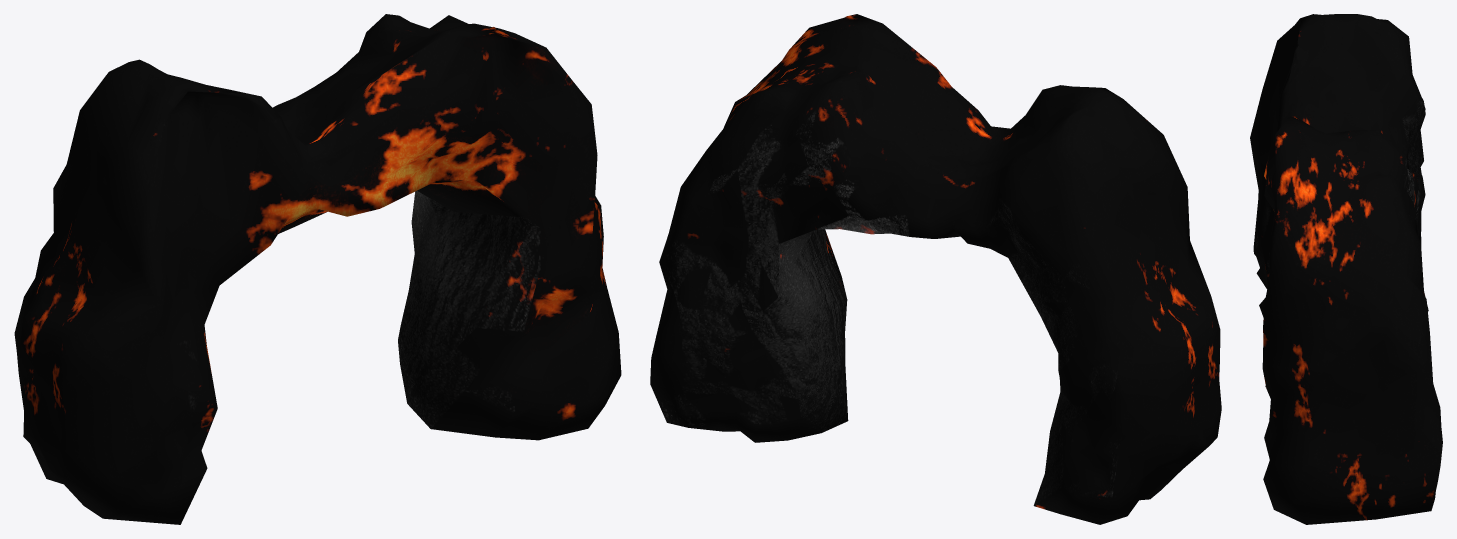
The model's file is monumentlava7.fbx.
3 views of the same model, side by side, from view 1: azimuth 30°, elevation 25°; view 2: azimuth 150°, elevation 25°; view 3: azimuth 270°, elevation 25° (orthographic). The views are drawn at different scales.
Visible parts, largest first — view 1: gecit; view 2: gecit; view 3: gecit.
Boxes of the visible parts, x1,y1,x2,y2 form: gecit: [14, 14, 621, 524]; gecit: [650, 14, 1221, 524]; gecit: [1250, 14, 1442, 524].
Bounding box in the file's own units: 1704 × 1236 × 628.
Materials: 1 (1 with a texture image).
